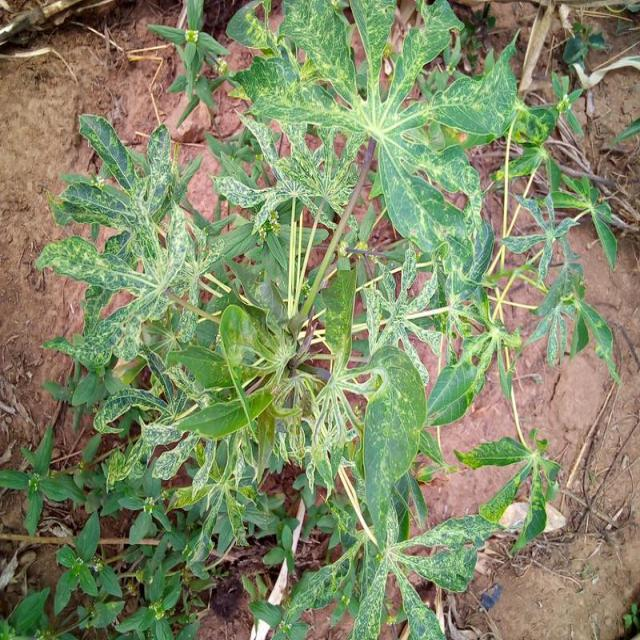cassava leaf: (34, 1, 618, 638), (361, 344, 427, 552)
